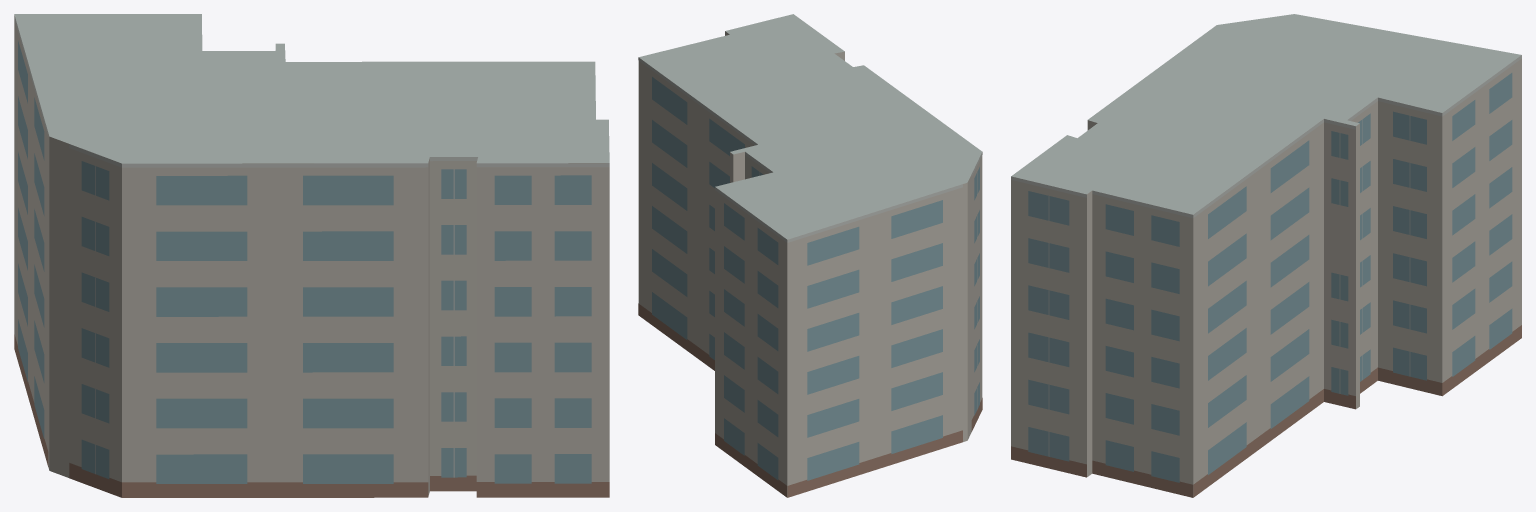
File: survey-upis-33016008.glb
3 renders of one model, left to right at view 1: azimuth 30°, elevation 25°; view 2: azimuth 150°, elevation 25°; view 3: azimuth 270°, elevation 25°, orthographic. The views are drawn at different scales.
Parts seen in each view (by area): view 1: survey-upis-33016008.tmp; view 2: survey-upis-33016008.tmp; view 3: survey-upis-33016008.tmp.
Boxes of the visible parts, x1=… form: survey-upis-33016008.tmp: x1=14, y1=14, x2=609, y2=497; survey-upis-33016008.tmp: x1=638, y1=14, x2=982, y2=497; survey-upis-33016008.tmp: x1=1011, y1=14, x2=1521, y2=497.
Size of the model in its own units: 29.97 by 19.7 by 32.22.
